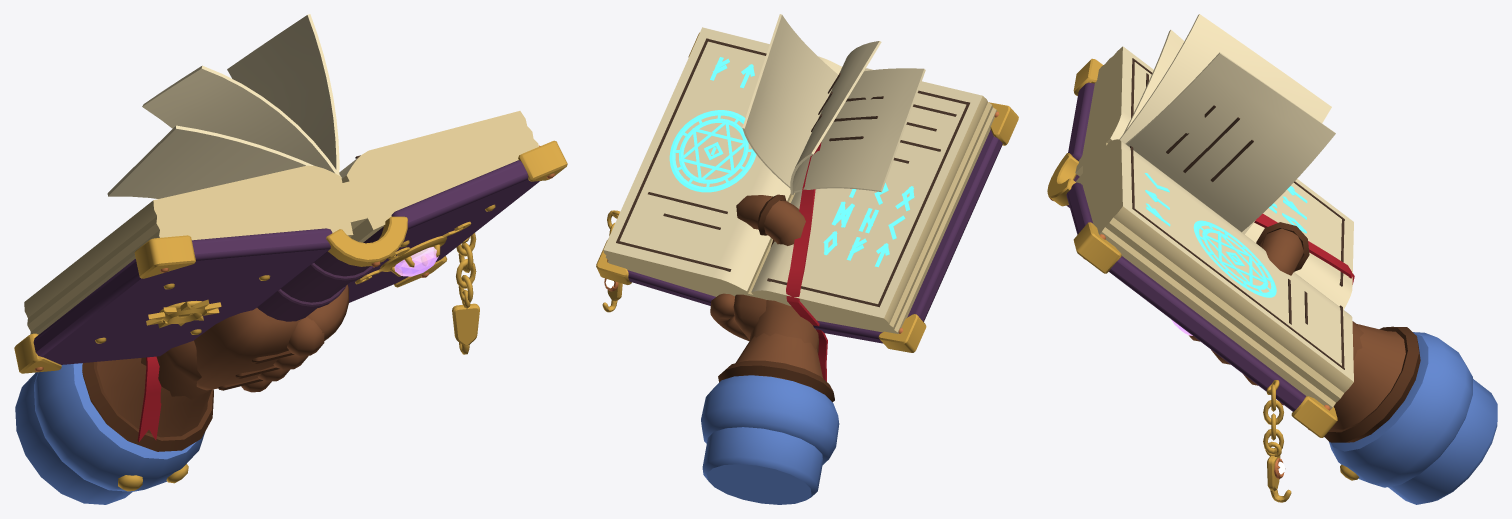
The model's file is vm_tome.glb.
3 renders of one model, left to right at view 1: azimuth 30°, elevation 25°; view 2: azimuth 150°, elevation 25°; view 3: azimuth 270°, elevation 25°, orthographic. The views are drawn at different scales.
Visible parts, largest first — view 1: Tome, Glove, Pages; view 2: Tome, Glove, Pages; view 3: Tome, Pages, Glove.
Part boxes in pixels (x1,y1,x2,y2): Tome: (14, 111, 567, 442); Glove: (15, 284, 348, 504); Pages: (107, 14, 341, 198); Tome: (596, 27, 1018, 381); Glove: (701, 194, 839, 504); Pages: (742, 14, 925, 194); Tome: (1047, 46, 1354, 502); Pages: (1119, 14, 1335, 234); Glove: (1189, 222, 1497, 504).
Bounding box in the file's own units: 0.4142 × 0.4946 × 0.4177.
